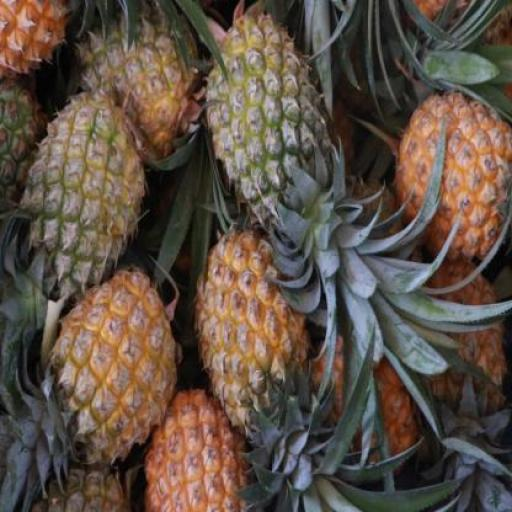------------------------------: (202, 8, 322, 222), (33, 99, 142, 294), (81, 0, 202, 158)
Pineapple - v8 v1: (53, 272, 178, 470), (196, 238, 312, 436), (396, 84, 508, 262), (142, 391, 254, 512)
